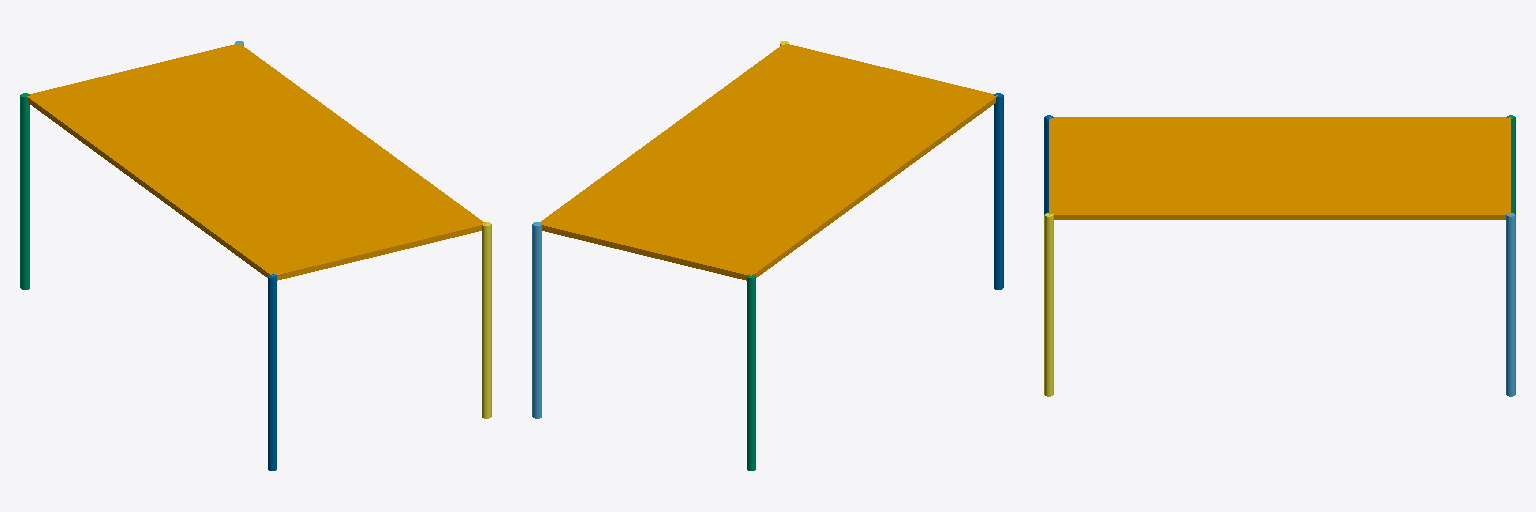
robot.urdf — table:
<?xml version="1.0" ?>
<!-- =================================================================================== -->
<!-- |    This document was autogenerated by xacro from table.urdf.xacro               | -->
<!-- |    EDITING THIS FILE BY HAND IS NOT RECOMMENDED                                 | -->
<!-- =================================================================================== -->
<robot name="table" xmlns:body="http://playerstage.sourceforge.net/gazebo/xmlschema/#body" xmlns:controller="http://playerstage.sourceforge.net/gazebo/xmlschema/#controller" xmlns:gazebo="http://playerstage.sourceforge.net/gazebo/xmlschema/#gz" xmlns:geom="http://playerstage.sourceforge.net/gazebo/xmlschema/#geom" xmlns:interface="http://playerstage.sourceforge.net/gazebo/xmlschema/#interface" xmlns:joint="http://playerstage.sourceforge.net/gazebo/xmlschema/#joint" xmlns:model="http://playerstage.sourceforge.net/gazebo/xmlschema/#model" xmlns:physics="http://playerstage.sourceforge.net/gazebo/xmlschema/#physics" xmlns:renderable="http://playerstage.sourceforge.net/gazebo/xmlschema/#renderable" xmlns:rendering="http://playerstage.sourceforge.net/gazebo/xmlschema/#rendering" xmlns:sensor="http://playerstage.sourceforge.net/gazebo/xmlschema/#sensor" xmlns:xi="http://www.w3.org/2001/XInclude">
  <!-- tabletop height is .55+.01+.025=.585 -->
  <link name="table_top_link">
    <inertial>
      <mass value="1.0"/>
      <origin xyz="0.98 0.0 0.8475314"/>
      <inertia ixx="1" ixy="0" ixz="0" iyy="1" iyz="0" izz="1"/>
    </inertial>
    <visual>
      <origin xyz="0.98 0.0 0.8475314"/>
      <geometry>
        <box size="1.0 2.0 0.0254"/>
      </geometry>
    </visual>
    <collision>
      <origin xyz="0.98 0.0 0.8475314"/>
      <geometry>
        <box size="1.0 2.0 0.0254"/>
      </geometry>
    </collision>
  </link>
  <gazebo reference="table_top_link">
    <material>Gazebo/Wood</material>
    <mu1>50.0</mu1>
    <mu2>50.0</mu2>
    <kp>1000000.0</kp>
    <kd>1.0</kd>
  </gazebo>
  <joint name="leg1_joint" type="fixed">
    <parent link="table_top_link"/>
    <origin rpy="0 0 0" xyz="1.48 1.0 0.8602314"/>
    <child link="leg1_link"/>
  </joint>
  <link name="leg1_link">
    <inertial>
      <mass value="1.0"/>
      <origin xyz="0 0 -0.4301157"/>
      <inertia ixx="0.1" ixy="0" ixz="0" iyy="0.1" iyz="0" izz="0.01"/>
    </inertial>
    <visual>
      <origin rpy="0 0 0" xyz="0.0 0.0 -0.4301157"/>
      <geometry>
        <cylinder length="0.8602314" radius="0.02"/>
      </geometry>
    </visual>
    <collision>
      <origin rpy="0.0 0.0 0.0" xyz="0.0 0.0 -0.4301157"/>
      <geometry>
        <cylinder length="0.8602314" radius="0.02"/>
      </geometry>
    </collision>
  </link>
  <gazebo reference="leg1_link">
    <material>Gazebo/Red</material>
    <mu1>1000.0</mu1>
    <mu2>1000.0</mu2>
    <kp>10000000.0</kp>
    <kd>1.0</kd>
    <selfCollide>true</selfCollide>
  </gazebo>
  <joint name="leg2_joint" type="fixed">
    <parent link="table_top_link"/>
    <origin rpy="0 0 0" xyz="0.48 1.0 0.8602314"/>
    <child link="leg2_link"/>
  </joint>
  <link name="leg2_link">
    <inertial>
      <mass value="1.0"/>
      <origin xyz="0 0 -0.4301157"/>
      <inertia ixx="0.1" ixy="0" ixz="0" iyy="0.1" iyz="0" izz="0.01"/>
    </inertial>
    <visual>
      <origin rpy="0 0 0" xyz="0.0 0.0 -0.4301157"/>
      <geometry>
        <cylinder length="0.8602314" radius="0.02"/>
      </geometry>
    </visual>
    <collision>
      <origin rpy="0.0 0.0 0.0" xyz="0.0 0.0 -0.4301157"/>
      <geometry>
        <cylinder length="0.8602314" radius="0.02"/>
      </geometry>
    </collision>
  </link>
  <gazebo reference="leg2_link">
    <material>Gazebo/Red</material>
    <mu1>1000.0</mu1>
    <mu2>1000.0</mu2>
    <kp>10000000.0</kp>
    <kd>1.0</kd>
    <selfCollide>true</selfCollide>
  </gazebo>
  <joint name="leg3_joint" type="fixed">
    <parent link="table_top_link"/>
    <origin rpy="0 0 0" xyz="1.48 -1.0 0.8602314"/>
    <child link="leg3_link"/>
  </joint>
  <link name="leg3_link">
    <inertial>
      <mass value="1.0"/>
      <origin xyz="0 0 -0.4301157"/>
      <inertia ixx="0.1" ixy="0" ixz="0" iyy="0.1" iyz="0" izz="0.01"/>
    </inertial>
    <visual>
      <origin rpy="0 0 0" xyz="0.0 0.0 -0.4301157"/>
      <geometry>
        <cylinder length="0.8602314" radius="0.02"/>
      </geometry>
    </visual>
    <collision>
      <origin rpy="0.0 0.0 0.0" xyz="0.0 0.0 -0.4301157"/>
      <geometry>
        <cylinder length="0.8602314" radius="0.02"/>
      </geometry>
    </collision>
  </link>
  <gazebo reference="leg3_link">
    <material>Gazebo/Red</material>
    <mu1>1000.0</mu1>
    <mu2>1000.0</mu2>
    <kp>10000000.0</kp>
    <kd>1.0</kd>
    <selfCollide>true</selfCollide>
  </gazebo>
  <joint name="leg4_joint" type="fixed">
    <parent link="table_top_link"/>
    <origin rpy="0 0 0" xyz="0.48 -1.0 0.8602314"/>
    <child link="leg4_link"/>
  </joint>
  <link name="leg4_link">
    <inertial>
      <mass value="1.0"/>
      <origin xyz="0 0 -0.4301157"/>
      <inertia ixx="0.1" ixy="0" ixz="0" iyy="0.1" iyz="0" izz="0.01"/>
    </inertial>
    <visual>
      <origin rpy="0 0 0" xyz="0.0 0.0 -0.4301157"/>
      <geometry>
        <cylinder length="0.8602314" radius="0.02"/>
      </geometry>
    </visual>
    <collision>
      <origin rpy="0.0 0.0 0.0" xyz="0.0 0.0 -0.4301157"/>
      <geometry>
        <cylinder length="0.8602314" radius="0.02"/>
      </geometry>
    </collision>
  </link>
  <gazebo reference="leg4_link">
    <material>Gazebo/Red</material>
    <mu1>1000.0</mu1>
    <mu2>1000.0</mu2>
    <kp>10000000.0</kp>
    <kd>1.0</kd>
    <selfCollide>true</selfCollide>
  </gazebo>
  <gazebo>
    <static>true</static>
    <canonicalBody>table_top_link</canonicalBody>
  </gazebo>
</robot>

--- Facts derived from the render (not from the file) ---
3 views of the same robot in one strip: view 1: azimuth 30°, elevation 25°; view 2: azimuth 150°, elevation 25°; view 3: azimuth 270°, elevation 25° (orthographic).
Robot: table — 5 links, 4 joints (4 fixed); root link table_top_link; default pose: every joint at zero.
Visible links, largest first — view 1: table_top_link, leg3_link, leg2_link, leg4_link; view 2: table_top_link, leg1_link, leg4_link, leg2_link; view 3: table_top_link, leg3_link, leg1_link.
Boxes of the visible links, x1=… form: table_top_link: x1=27, y1=43, x2=485, y2=280; leg3_link: x1=482, y1=222, x2=491, y2=418; leg2_link: x1=20, y1=93, x2=29, y2=289; leg4_link: x1=268, y1=274, x2=276, y2=470; table_top_link: x1=538, y1=43, x2=997, y2=280; leg1_link: x1=532, y1=222, x2=541, y2=418; leg4_link: x1=994, y1=93, x2=1003, y2=289; leg2_link: x1=747, y1=274, x2=755, y2=470; table_top_link: x1=1049, y1=117, x2=1510, y2=219; leg3_link: x1=1044, y1=213, x2=1053, y2=396; leg1_link: x1=1506, y1=213, x2=1515, y2=396.
Size in the robot's own frame: 1.04 by 2.04 by 0.8602 metres.
Geometry: primitives only (box / cylinder / sphere), no mesh files.